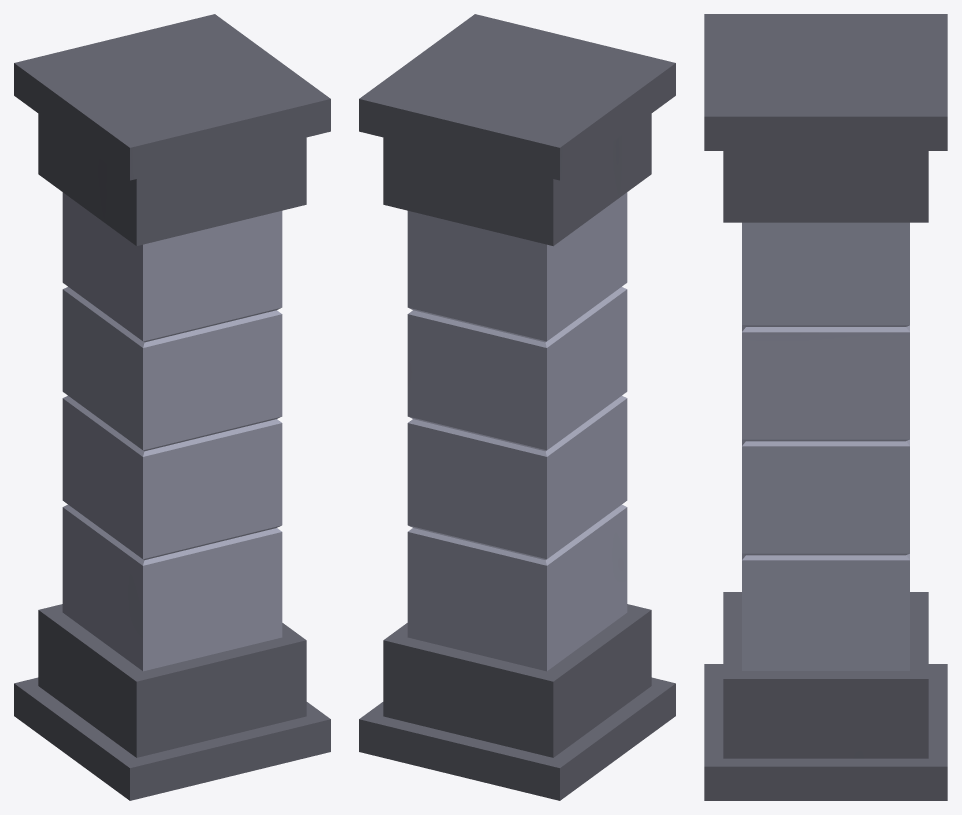
The model's file is coluna.fbx.
The picture shows the model from 3 angles, left to right: view 1: azimuth 30°, elevation 25°; view 2: azimuth 150°, elevation 25°; view 3: azimuth 270°, elevation 25°; orthographic projection. The views are drawn at different scales.
Parts seen in each view (by area): view 1: coluna retangular.019; view 2: coluna retangular.019; view 3: coluna retangular.019.
Part boxes in pixels (x1,y1,x2,y2): coluna retangular.019: (14,14,330,800); coluna retangular.019: (359,14,675,800); coluna retangular.019: (704,14,947,800).
Size of the model in its own units: 67.6 by 210 by 67.6.
